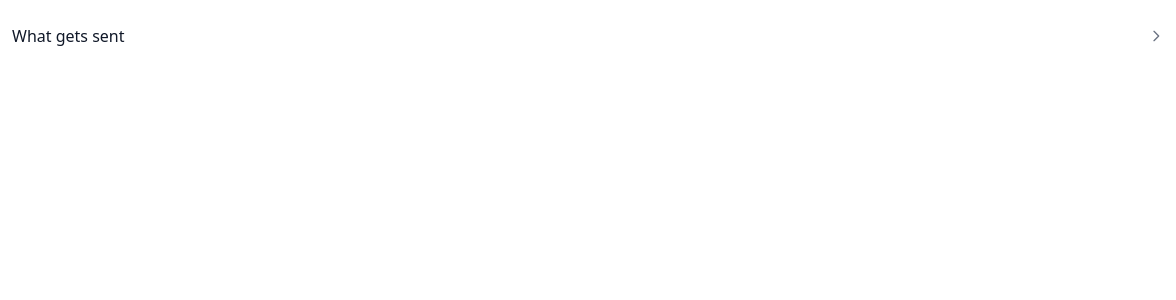
Test: what gets sent › shows the real values it was given
Click the button. click: coordinates (68, 36)
box: [12,12,1164,60]
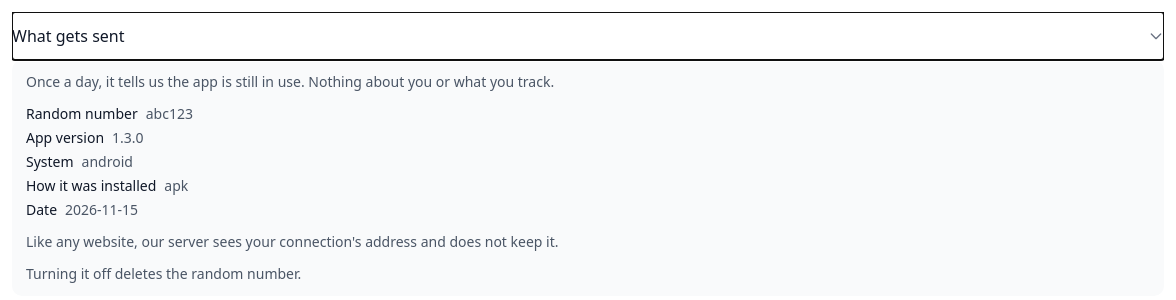
Result: the text "abc123" is shown at [146,104,193,124]
Result: the text "1.3.0" is shown at [112,128,144,148]
Result: the text "apk" is shown at [164,176,188,196]
